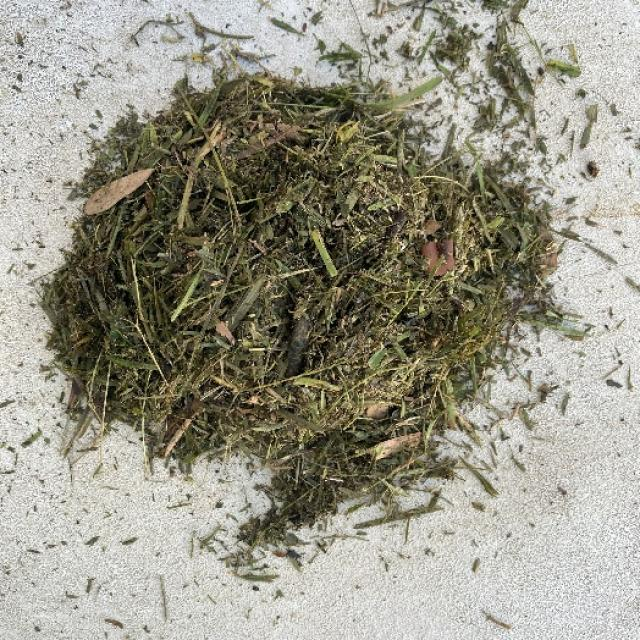organik: (81, 56, 535, 523)
